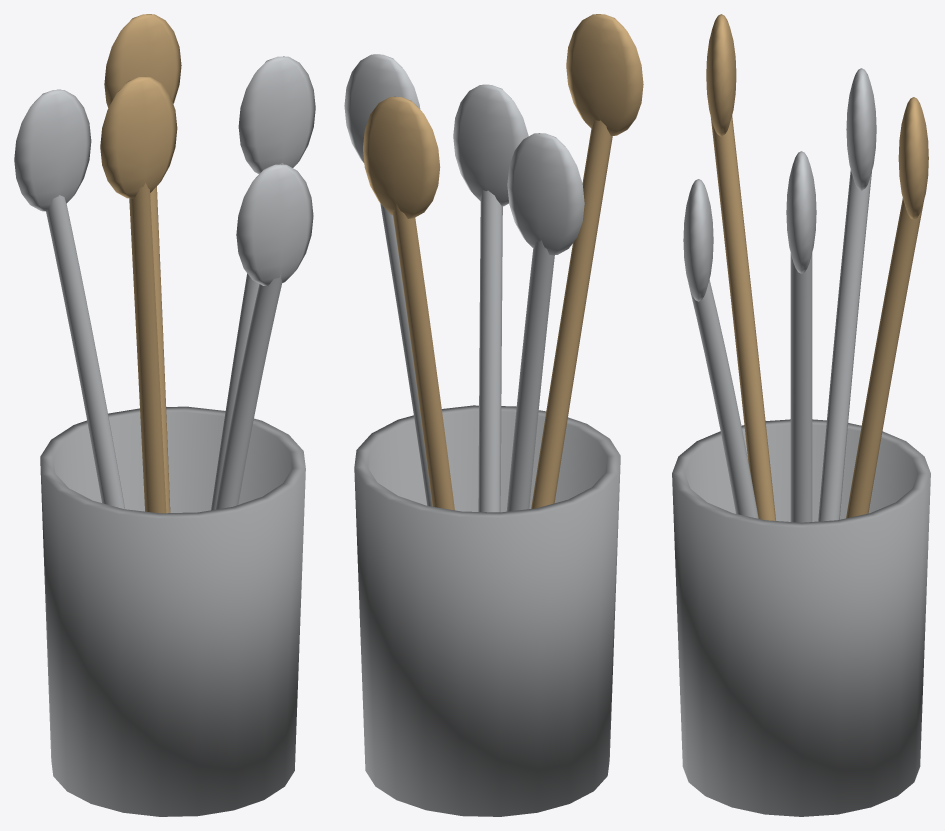
The model's file is i_kit_14.glb.
3 renders of one model, left to right at view 1: azimuth 30°, elevation 25°; view 2: azimuth 150°, elevation 25°; view 3: azimuth 270°, elevation 25°, orthographic. The views are drawn at different scales.
Visible parts, largest first — view 1: o, o.010, o.008, o.006, o.007, o.002, o.005, o.009, o.004, o.001, o.003; view 2: o, o.007, o.009, o.004, o.006, o.008, o.003, o.010, o.005, o.002, o.001; view 3: o, o.007, o.005, o.003, o.001, o.009, o.010, o.002, o.004, o.008, o.006.
Boxes of the visible parts, x1,y1,x2,y2 form: o: (40, 406, 305, 816); o.010: (236, 164, 313, 286); o.008: (100, 77, 177, 198); o.006: (14, 89, 91, 211); o.007: (129, 183, 166, 513); o.002: (238, 56, 315, 173); o.005: (46, 195, 124, 509); o.009: (215, 271, 282, 509); o.004: (104, 14, 181, 107); o.001: (211, 163, 283, 510); o.003: (150, 186, 170, 513); o: (354, 405, 620, 816); o.007: (531, 120, 612, 508); o.009: (478, 190, 502, 512); o.004: (363, 96, 440, 218); o.006: (507, 133, 584, 255); o.008: (566, 14, 643, 135); o.003: (393, 204, 454, 510); o.010: (453, 84, 528, 206); o.005: (506, 240, 554, 511); o.002: (344, 54, 420, 162); o.001: (380, 203, 432, 506); o: (672, 419, 930, 816); o.007: (710, 115, 775, 520); o.005: (818, 170, 871, 521); o.003: (846, 198, 923, 518); o.001: (790, 253, 812, 522); o.009: (688, 280, 758, 518); o.010: (683, 179, 713, 301); o.002: (786, 151, 816, 273); o.004: (898, 97, 928, 219); o.008: (706, 14, 736, 136); o.006: (846, 68, 876, 190).
Size of the model in its own units: 0.1403 by 0.3652 by 0.12.
